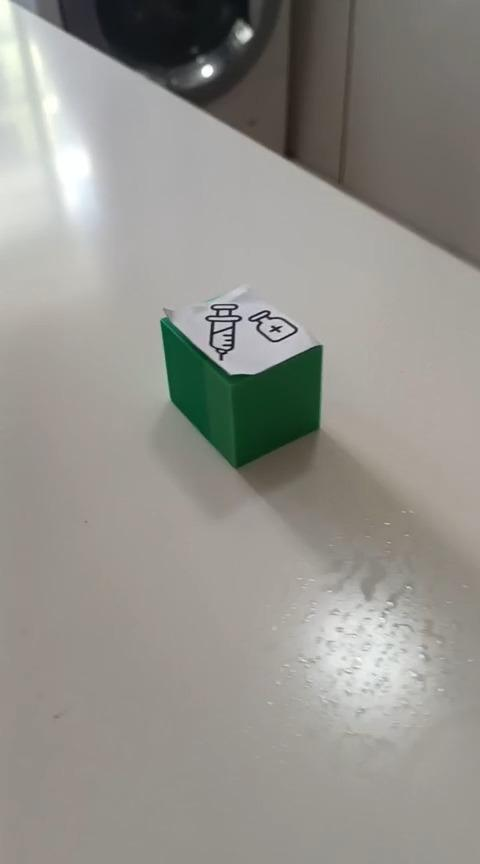antiseptic cream: (158, 282, 324, 469)
